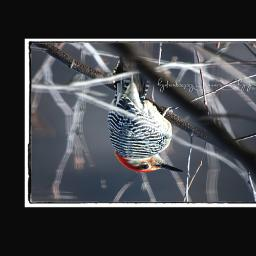Woodpecker: (103, 75, 189, 178)
